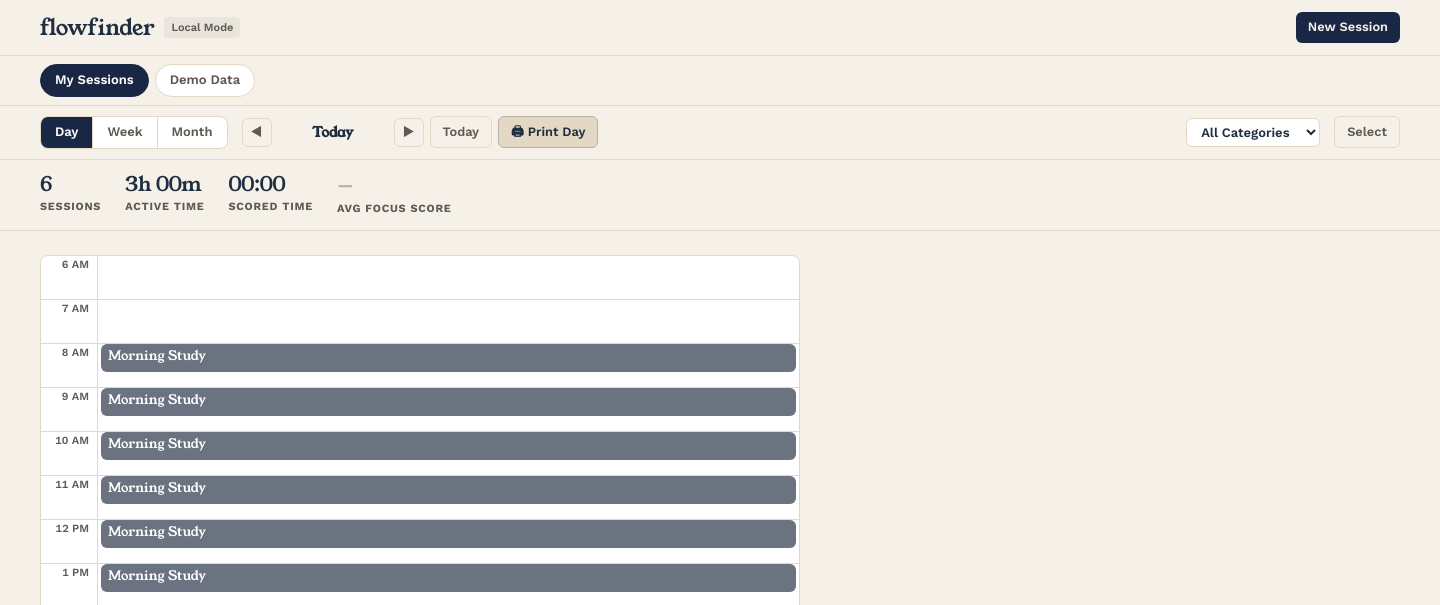
Dashboard time-grid › month view shows "+N" when a day has more than 4 sessions
This screenshot has width=1440, height=605.
Click the button "Month".
click(192, 132)  # box top-left (158, 117), bottom-right (226, 148)
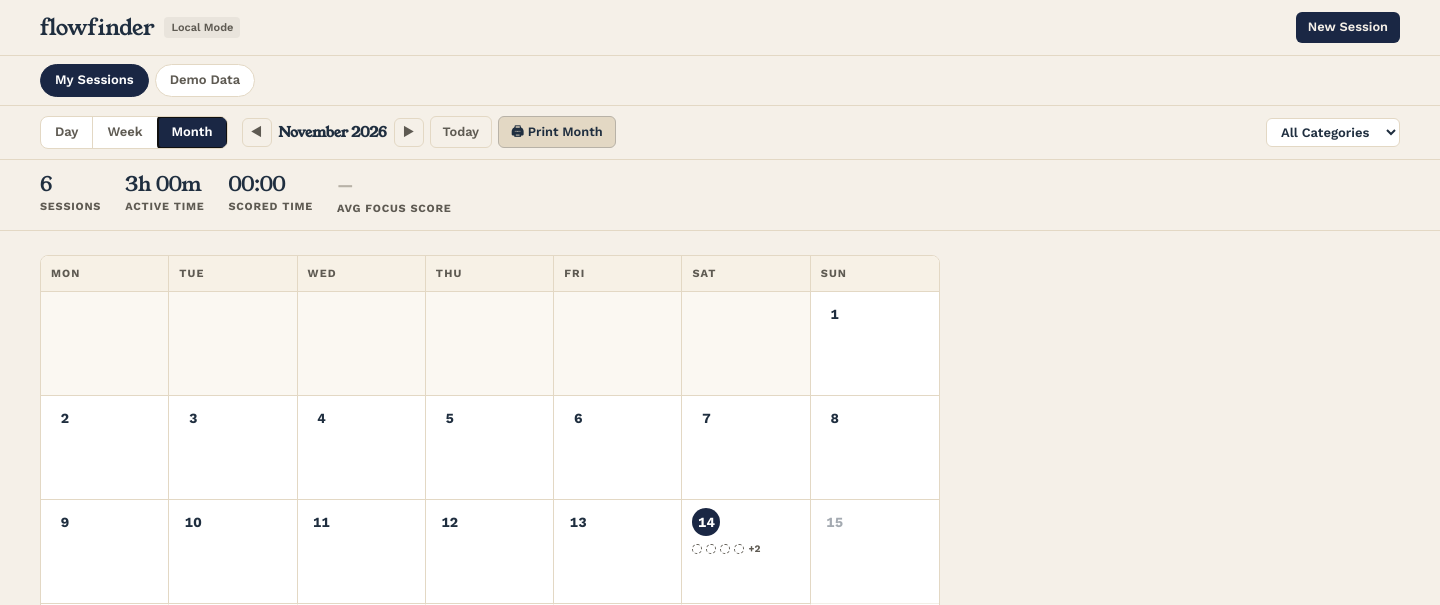
expect the text "+2" is shown: met, box top-left (748, 544), bottom-right (760, 554)
